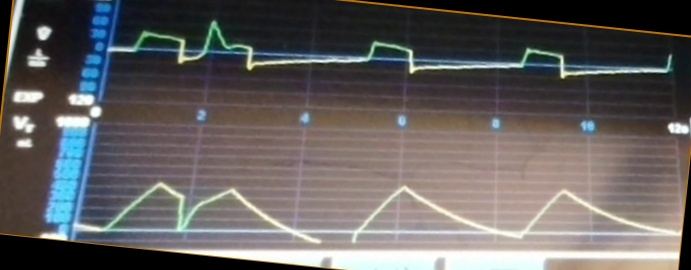Double_Triggering Flow: (116, 16, 588, 106)
Double_Triggering Volume: (86, 171, 670, 245)
